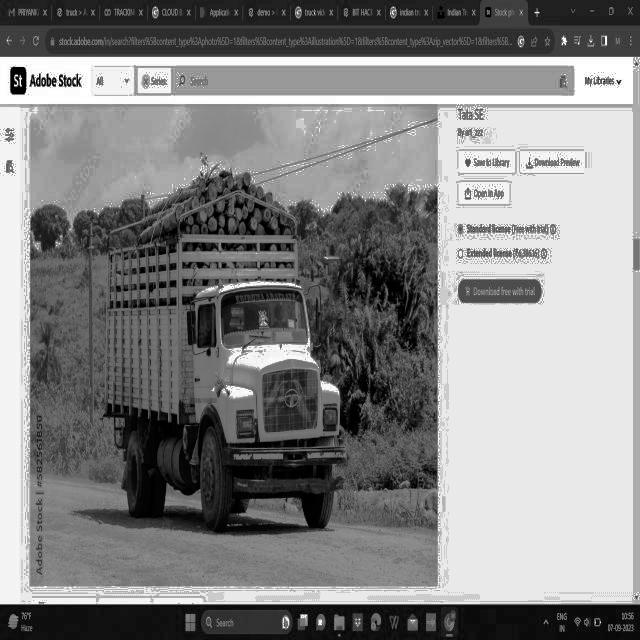HCV: (97, 150, 365, 546)
